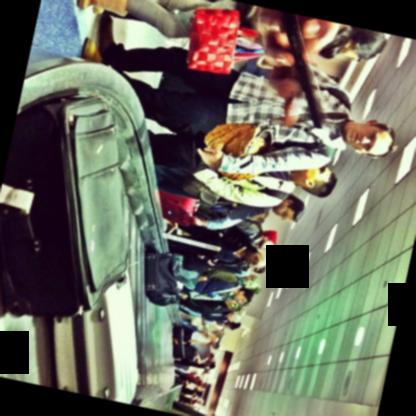handbag: (201, 117, 282, 183), (183, 8, 262, 72), (181, 176, 218, 205)
suitcase: (0, 92, 127, 319), (50, 268, 139, 404), (143, 251, 180, 297), (157, 188, 196, 228), (171, 324, 192, 358)
